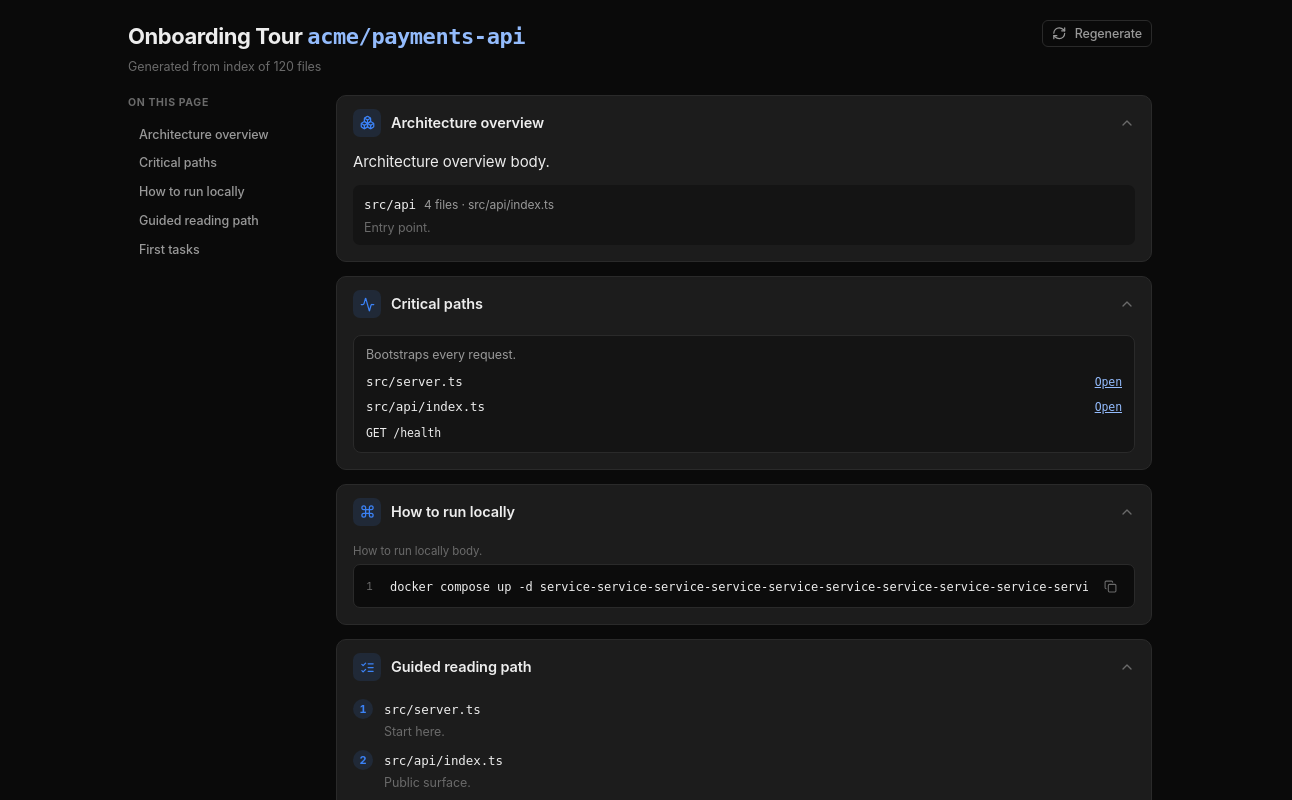
TourView — auditable, honest, in-flight (Phase B3) › the Copy control is a labelled button that copies the full command, even a very long one (C9)
Click the button named "Copy command": (1110, 586) [1098,574,1122,598]
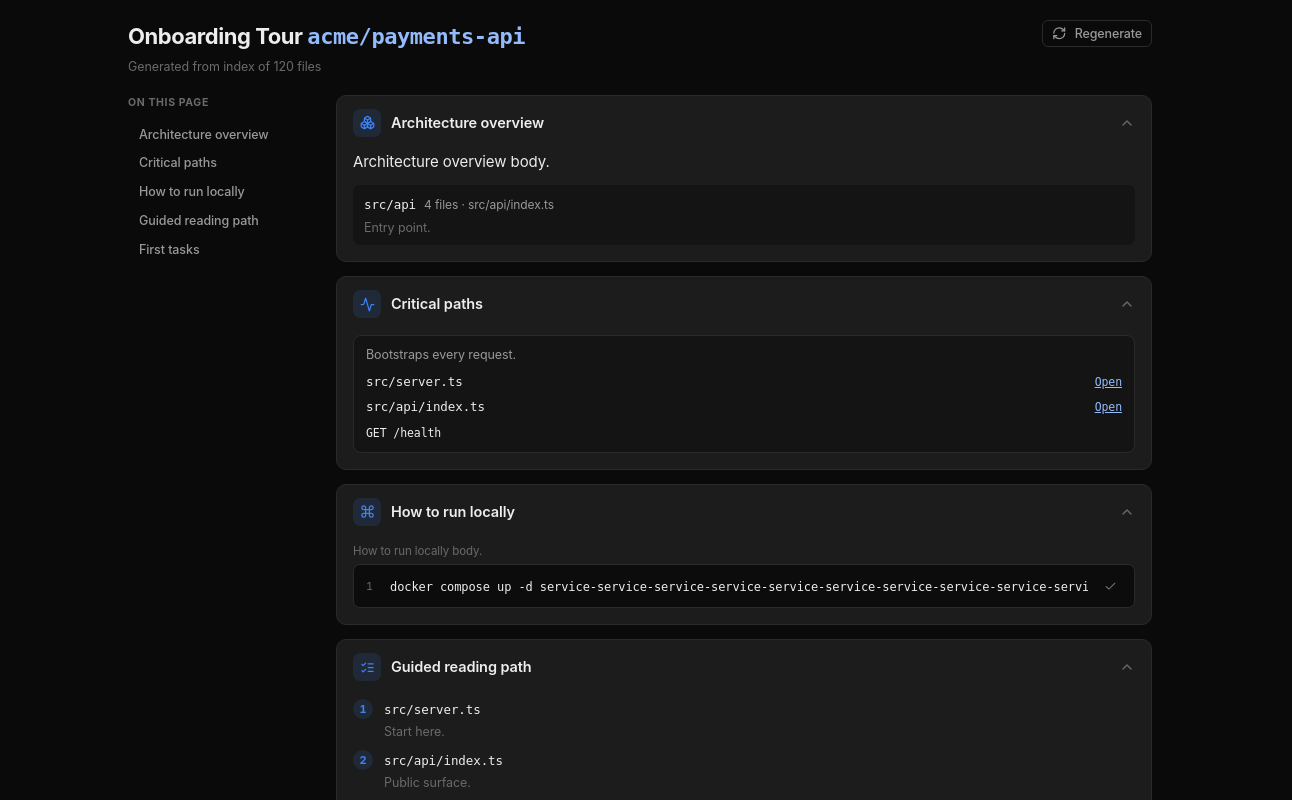
Check: the button named "Copied" is shown, box [1098,574,1122,598]
